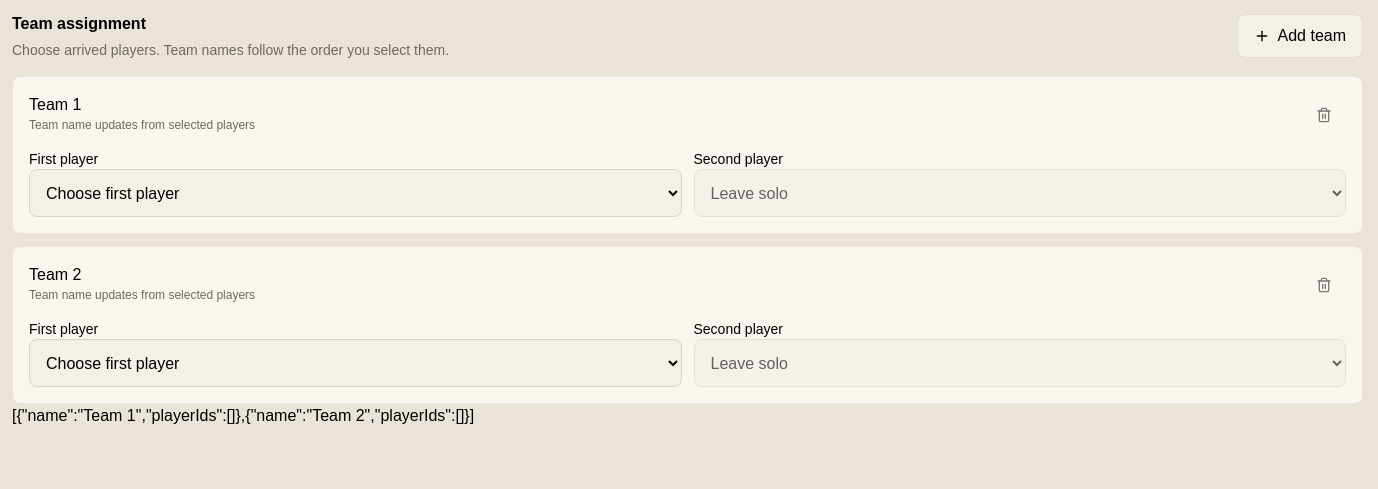
it: TeamAssignmentEditor › generates team names from selected players in selection order
The image size is (1378, 489).
Select "Alex Morgan · alex@example.test" in the dropdown named "Team 1, first player" at (355, 193), box [29,169,682,217]
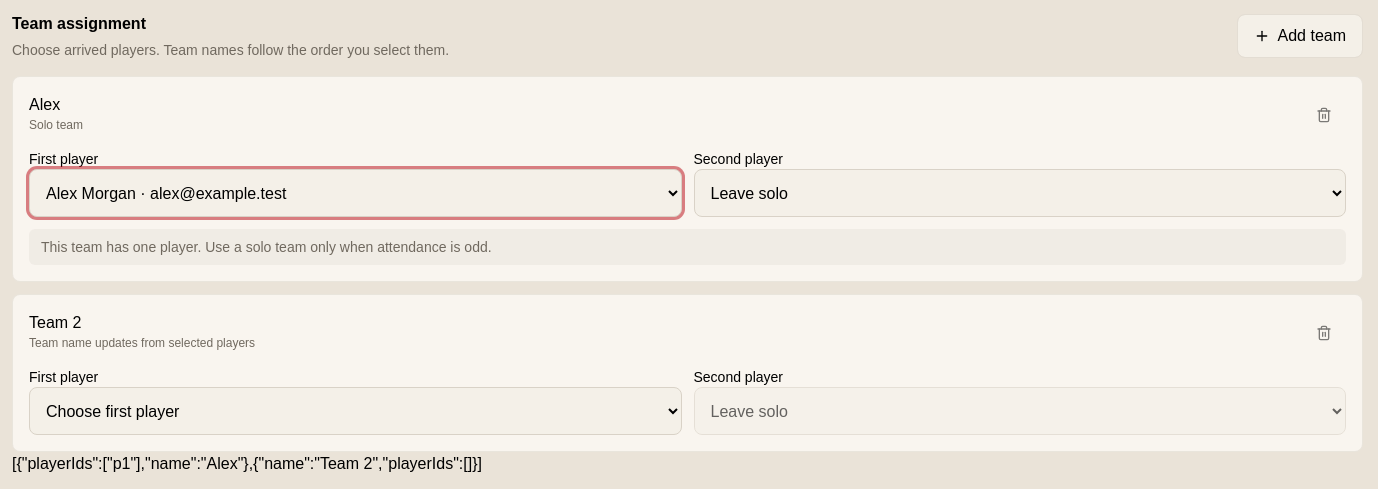
Select "Sam Lee · sam@example.test" in the dropdown named "Team 1, second player" at (1020, 193), box [694,169,1346,217]
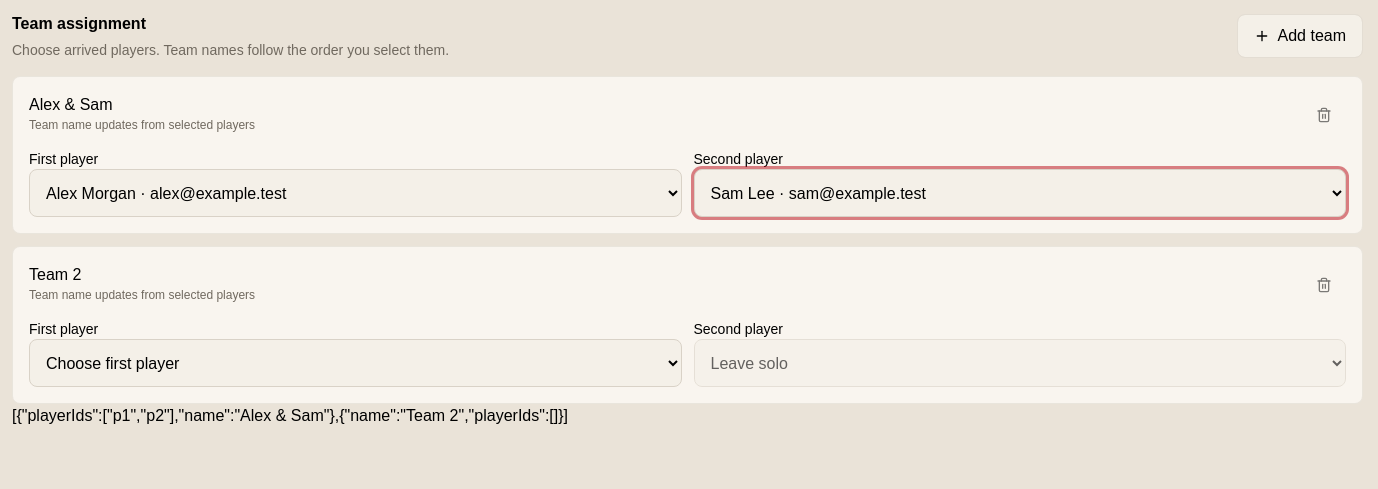
Now the text named "Current assignments" shows "Alex & Sam", box [12,407,568,424]
Select "Leave solo" in the dropdown named "Team 1, second player" at (1020, 193), box [694,169,1346,217]
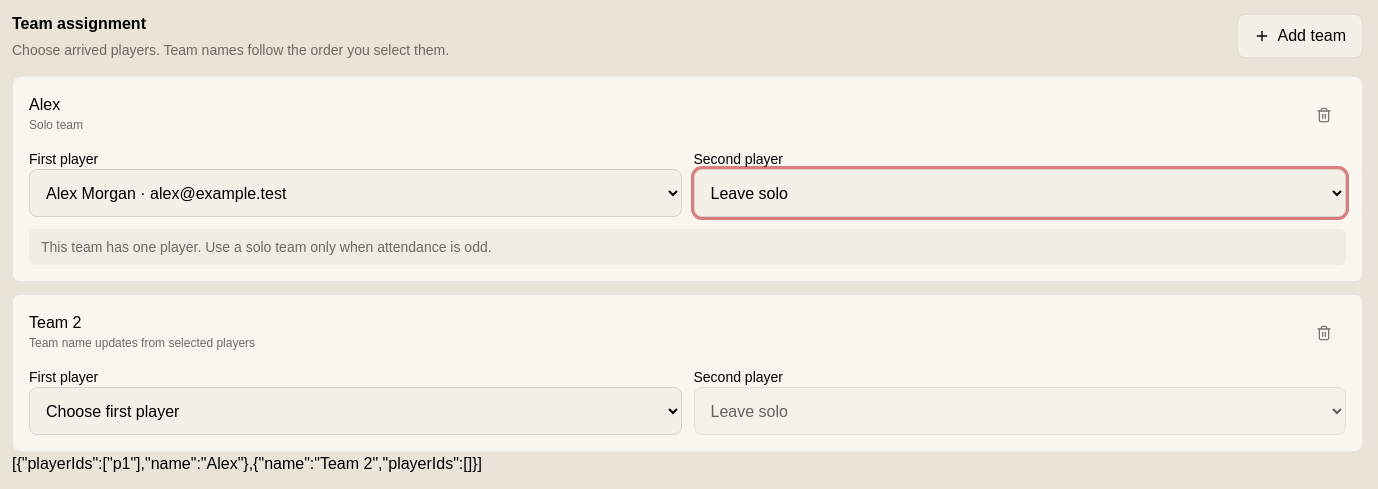
Select "Sam Lee · sam@example.test" in the dropdown named "Team 1, first player" at (355, 193), box [29,169,682,217]
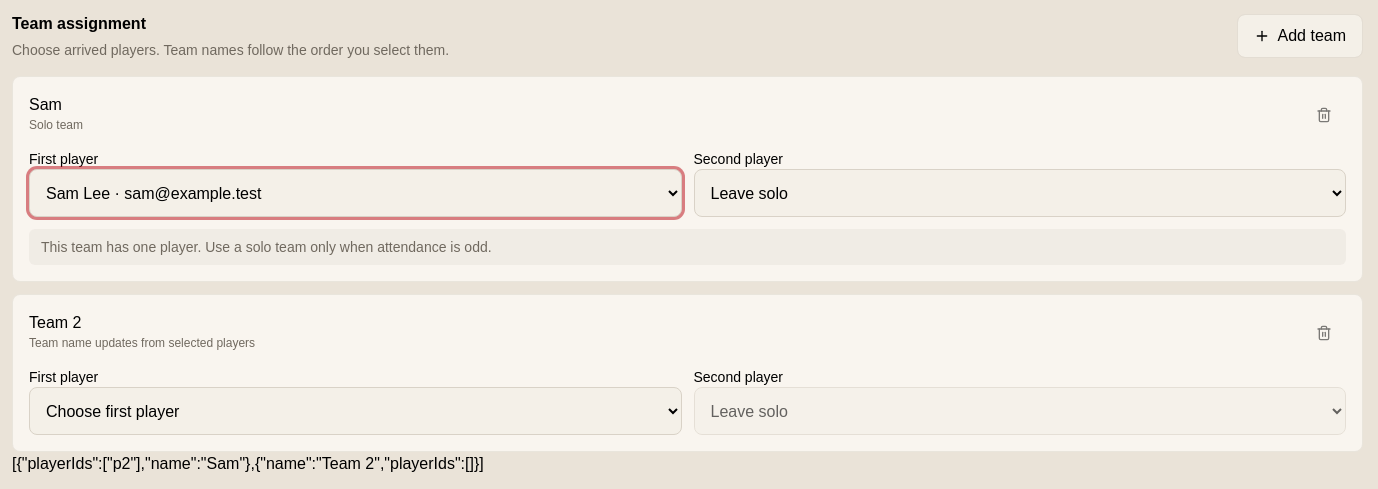
Select "Alex Morgan · alex@example.test" in the dropdown named "Team 1, second player" at (1020, 193), box [694,169,1346,217]
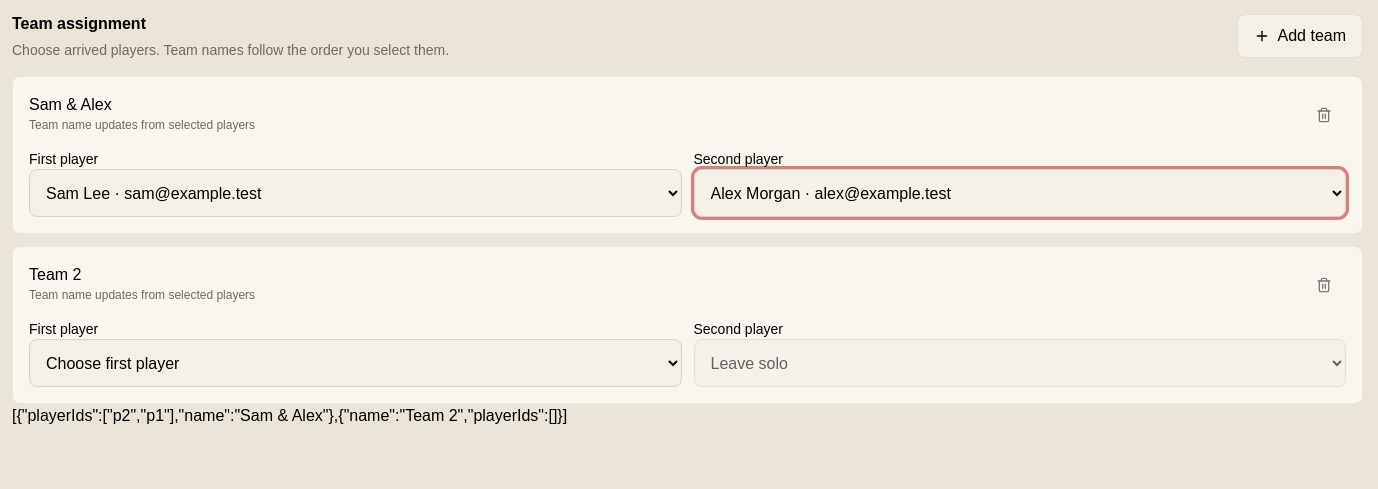
Now the text named "Current assignments" shows "Sam & Alex", box [12,407,567,424]
